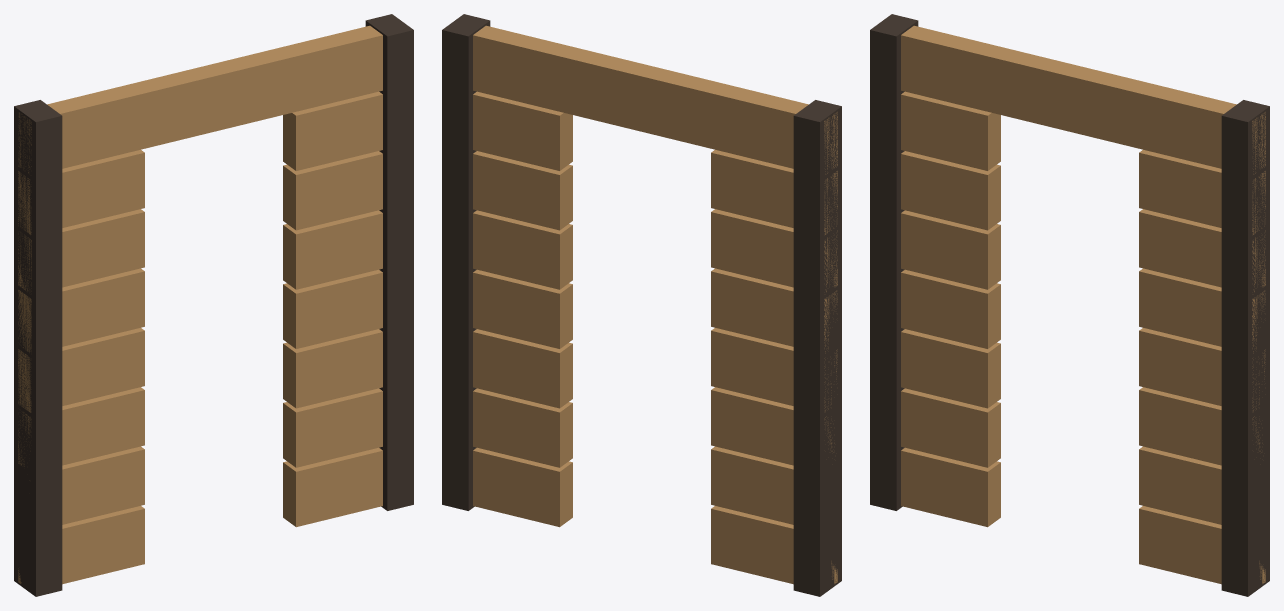
Rendered from wood_wall_door.glb.
3 renders of one model, left to right at view 1: azimuth 30°, elevation 25°; view 2: azimuth 150°, elevation 25°; view 3: azimuth 330°, elevation 25°, orthographic.
Visible parts, largest first — view 1: wood_wall_door; view 2: wood_wall_door; view 3: wood_wall_door.
Part boxes in pixels (box(x1,y1,x2,y2)): wood_wall_door: box(14, 14, 413, 596); wood_wall_door: box(442, 14, 841, 596); wood_wall_door: box(870, 14, 1269, 596).
Bounding box in the file's own units: 2 × 2.4 × 0.2.
